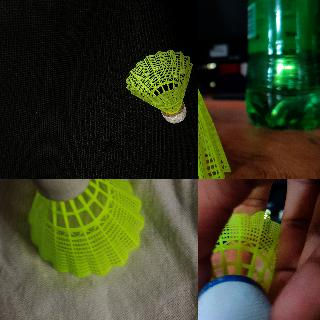shuttlecock: (26, 179, 144, 277), (198, 211, 280, 319), (198, 6, 231, 178), (126, 49, 192, 122)
